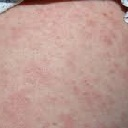Measles: (9, 17, 121, 119)
